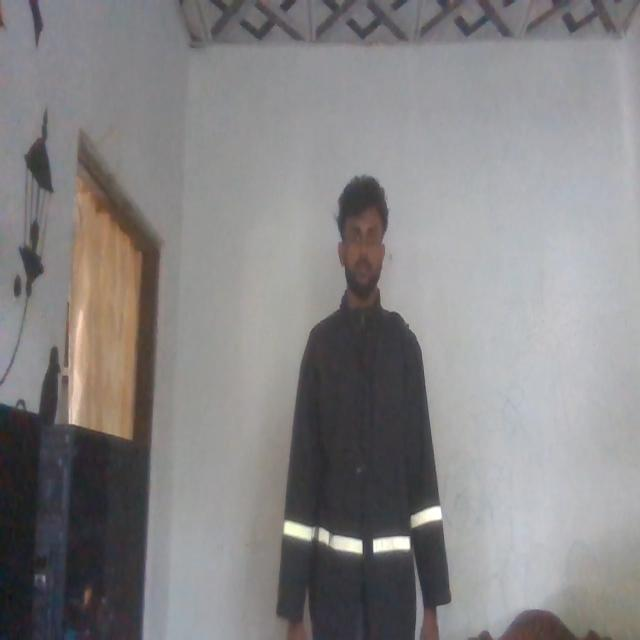Jacket_Wearer: (282, 298, 446, 633)
Person: (276, 174, 448, 640)
